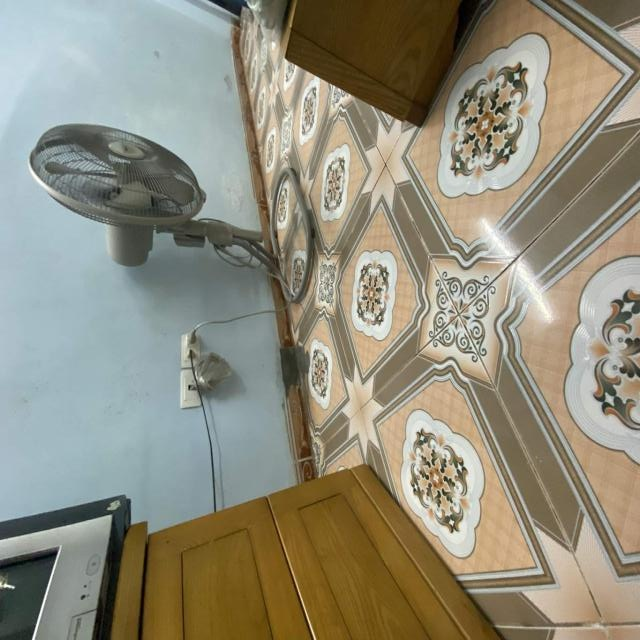outlet: (180, 370, 202, 410), (180, 333, 200, 368)
